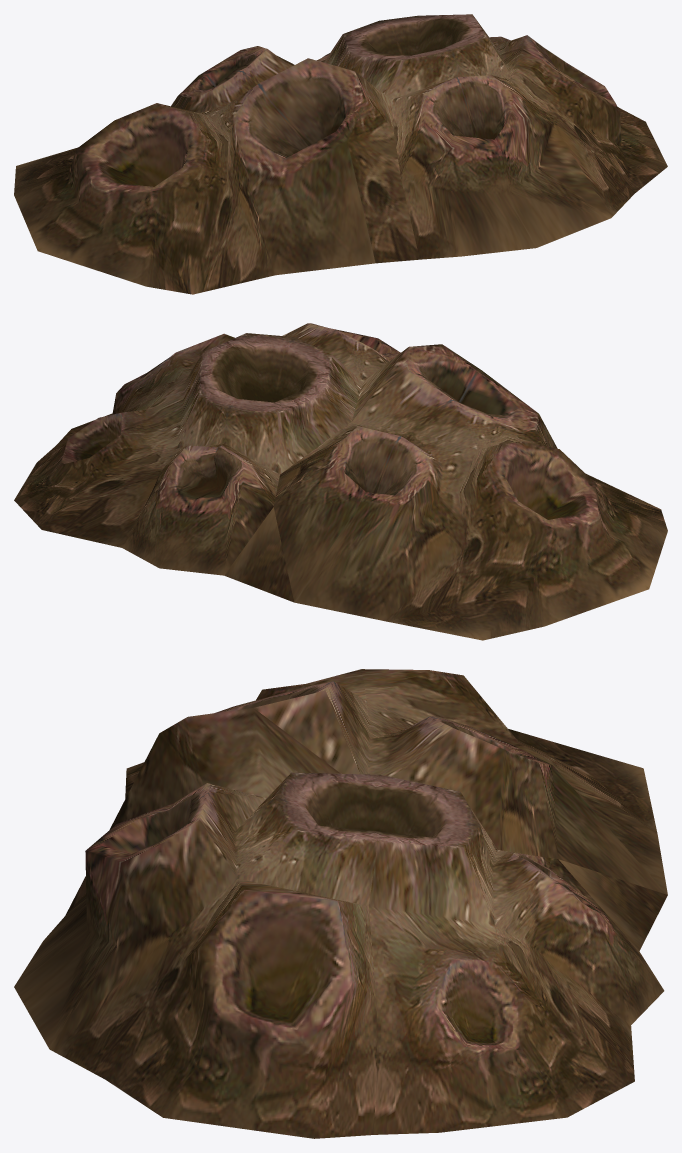
File: Battle02_Hole_01.FBX
3 renders of one model, top to bottom at view 1: azimuth 30°, elevation 25°; view 2: azimuth 150°, elevation 25°; view 3: azimuth 270°, elevation 25°, orthographic. The views are drawn at different scales.
Parts seen in each view (by area): view 1: Battle01_Hole_01; view 2: Battle01_Hole_01; view 3: Battle01_Hole_01.
Part boxes in pixels (<box>): Battle01_Hole_01: <box>14,14,667,294</box>; Battle01_Hole_01: <box>14,323,667,640</box>; Battle01_Hole_01: <box>14,669,667,1138</box>.
Size of the model in its own units: 5.41 by 1.25 by 3.55.
